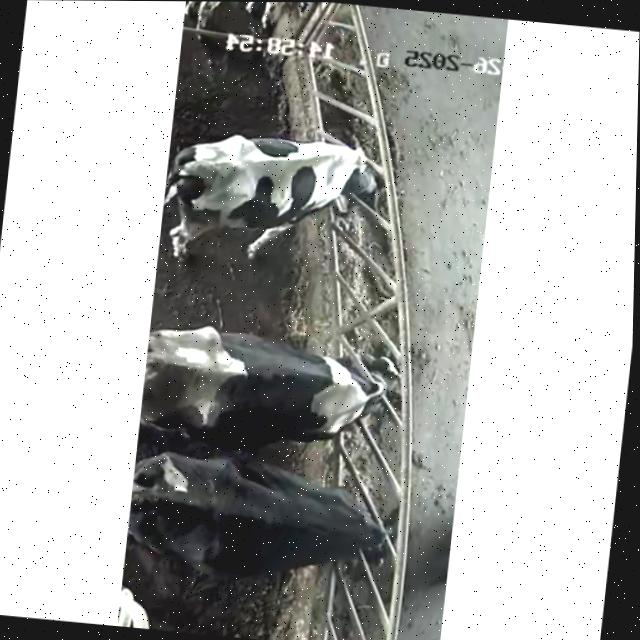eat: (296, 323, 451, 443), (299, 476, 445, 587), (291, 129, 440, 235)
